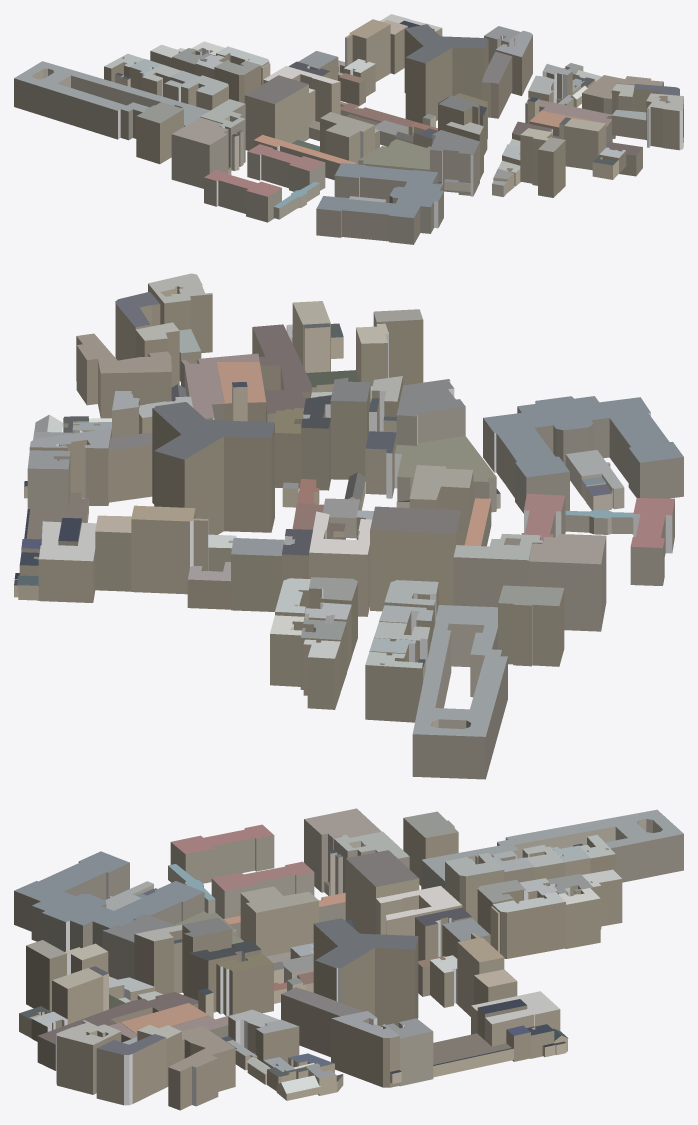
3 renders of one model, top to bottom at view 1: azimuth 30°, elevation 25°; view 2: azimuth 150°, elevation 25°; view 3: azimuth 270°, elevation 25°, orthographic. The views are drawn at different scales.
Parts seen in each view (by area): view 1: tuile; view 2: tuile; view 3: tuile.
Part boxes in pixels (x1,y1,x2,y2): tuile: [14, 14, 683, 244]; tuile: [14, 273, 683, 779]; tuile: [14, 808, 683, 1110].
Size of the model in its own units: 299 by 45.99 by 294.
